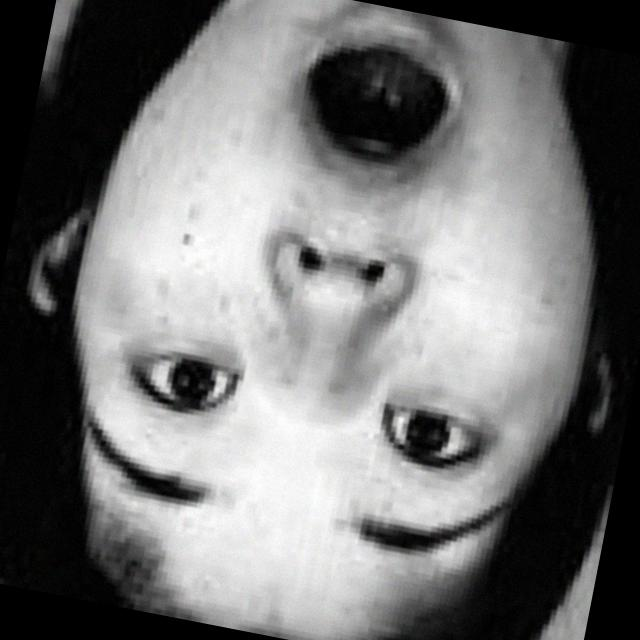surprise: (5, 0, 616, 631)
